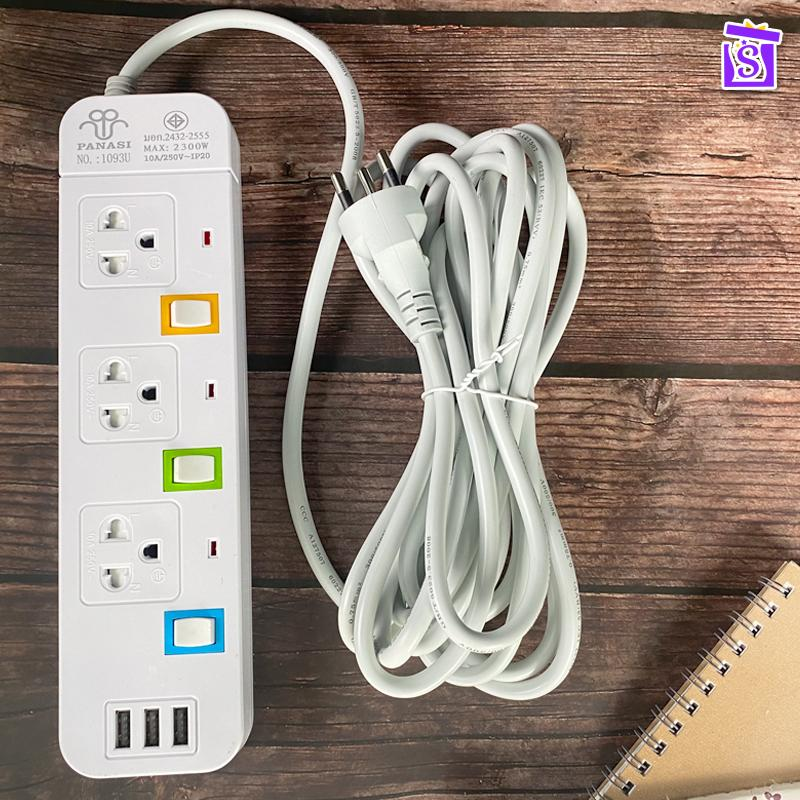Three_eye_plug: (48, 75, 284, 784)
